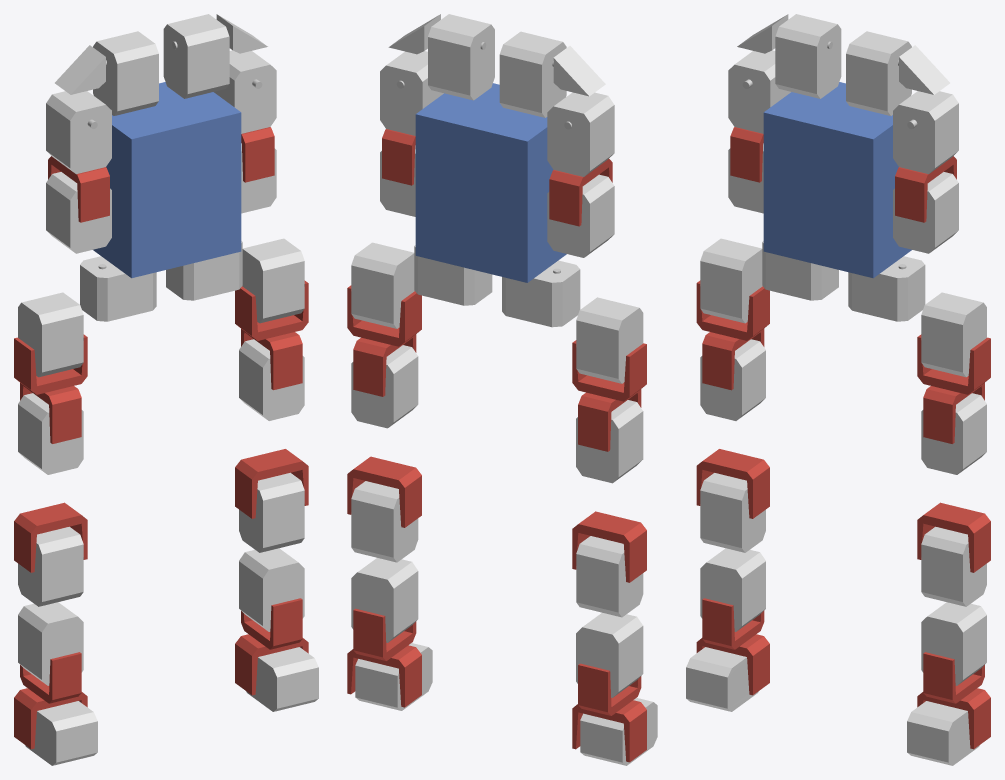
File: full_robot_mx28 _collada.dae
The picture shows the model from 3 angles, left to right: view 1: azimuth 30°, elevation 25°; view 2: azimuth 150°, elevation 25°; view 3: azimuth 330°, elevation 25°; orthographic projection.
Parts seen in each view (by area): view 1: Cube, Servo_010, Servo_012, Servo_007, Servo_006, Servo_011, Servo_001, Servo, Servo_003, Servo_002, Servo_017, Servo_014 (+21 smaller); view 2: Cube, Servo_010, Servo_012, Servo_007, Servo_011, Servo_006, Servo, Servo_001, Servo_002, Servo_003, Servo_017, Servo_008 (+21 smaller); view 3: Cube, Servo_011, Servo_008, Servo_006, Servo_007, Servo_010, Servo, Servo_001, Servo_003, Servo_002, Servo_016, Servo_014 (+21 smaller).
Boxes of the visible parts, left/top/right/bottom form: Cube: left=93, top=82, right=241, bottom=278; Servo_010: left=163, top=14, right=229, bottom=98; Servo_012: left=46, top=91, right=111, bottom=174; Servo_007: left=18, top=292, right=83, bottom=377; Servo_006: left=242, top=238, right=304, bottom=323; Servo_011: left=93, top=31, right=158, bottom=115; Servo_001: left=18, top=526, right=83, bottom=606; Servo: left=239, top=472, right=304, bottom=552; Servo_003: left=18, top=602, right=83, bottom=685; Servo_002: left=239, top=548, right=304, bottom=631; Servo_017: left=80, top=256, right=156, bottom=321; Servo_014: left=246, top=647, right=318, bottom=711; Cube: left=415, top=83, right=566, bottom=282; Servo_010: left=428, top=14, right=494, bottom=100; Servo_012: left=547, top=92, right=614, bottom=176; Servo_007: left=576, top=297, right=643, bottom=383; Servo_011: left=499, top=31, right=566, bottom=117; Servo_006: left=351, top=242, right=414, bottom=328; Servo: left=351, top=481, right=418, bottom=562; Servo_001: left=576, top=536, right=643, bottom=617; Servo_002: left=351, top=558, right=418, bottom=642; Servo_003: left=576, top=612, right=643, bottom=697; Servo_017: left=502, top=260, right=580, bottom=327; Servo_008: left=380, top=51, right=443, bottom=135; Cube: left=763, top=82, right=911, bottom=278; Servo_011: left=775, top=14, right=841, bottom=98; Servo_008: left=893, top=91, right=958, bottom=174; Servo_006: left=921, top=292, right=986, bottom=377; Servo_007: left=700, top=238, right=762, bottom=323; Servo_010: left=846, top=31, right=911, bottom=115; Servo: left=921, top=526, right=986, bottom=606; Servo_001: left=700, top=473, right=765, bottom=552; Servo_003: left=700, top=548, right=765, bottom=631; Servo_002: left=921, top=602, right=986, bottom=685; Servo_016: left=848, top=256, right=925, bottom=321; Servo_014: left=907, top=701, right=979, bottom=765.
Bounding box in the file's own units: 2.36 × 0.7571 × 5.56.
